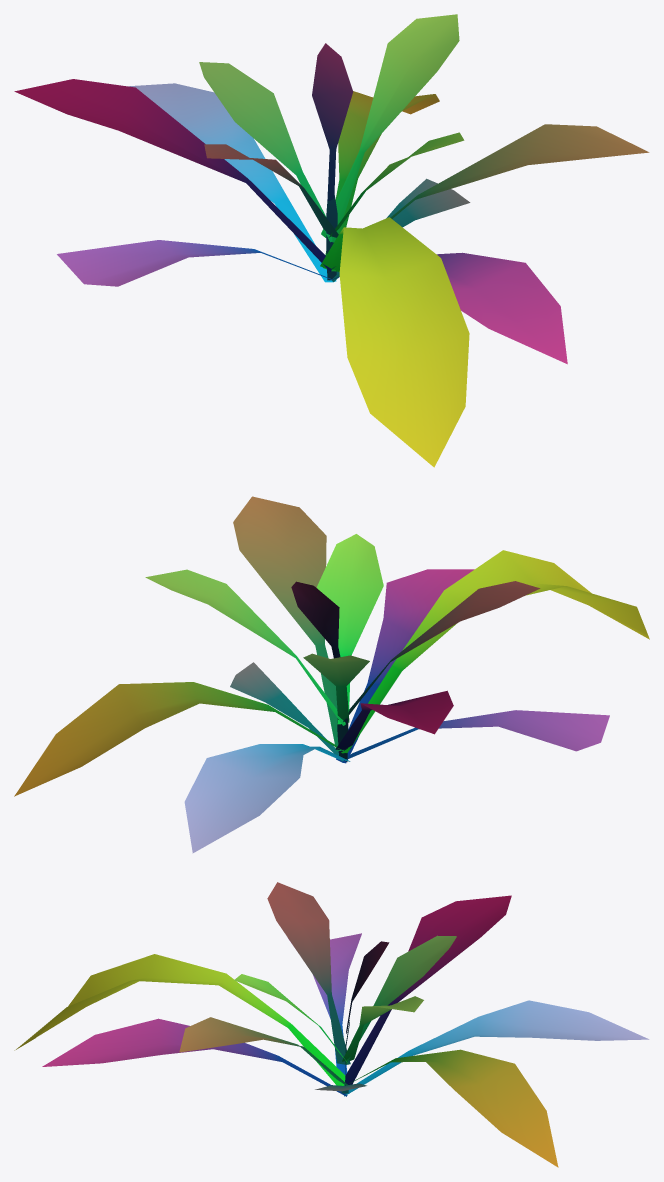
The model's file is Curbside_Weeds_ujzjfexja_Mid_ujzjfexja_VarI_LOD0.fbx.
The picture shows the model from 3 angles, top to bottom: view 1: azimuth 30°, elevation 25°; view 2: azimuth 150°, elevation 25°; view 3: azimuth 270°, elevation 25°; orthographic projection. The views are drawn at different scales.
Visible parts, largest first — view 1: _fe8f_VarI_LOD1; view 2: _fe8f_VarI_LOD1; view 3: _fe8f_VarI_LOD1.
Part boxes in pixels (x1=…): _fe8f_VarI_LOD1: x1=14, y1=14, x2=649, y2=467; _fe8f_VarI_LOD1: x1=14, y1=496, x2=649, y2=853; _fe8f_VarI_LOD1: x1=14, y1=882, x2=649, y2=1167.
Size of the model in its own units: 17.57 by 7.36 by 26.34.
